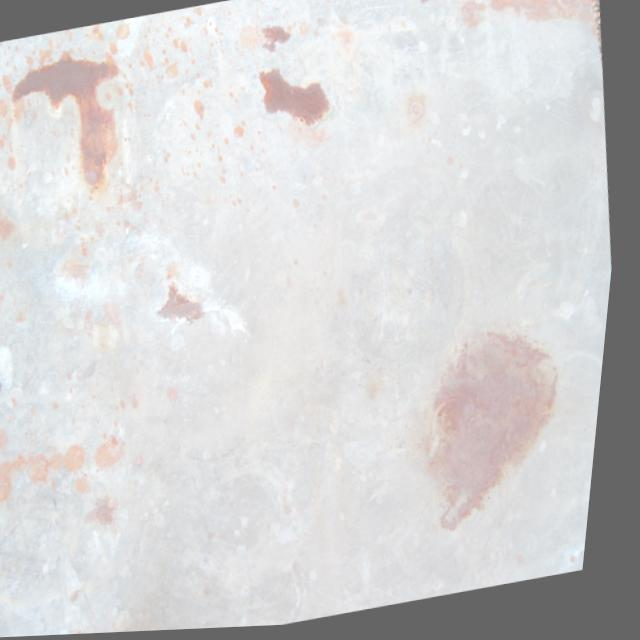corrosion: (414, 320, 589, 543), (0, 42, 138, 203), (0, 417, 138, 510), (411, 0, 599, 58), (254, 57, 338, 140), (158, 279, 213, 331), (96, 494, 129, 535), (260, 23, 294, 56), (85, 623, 143, 635), (0, 522, 8, 588)
